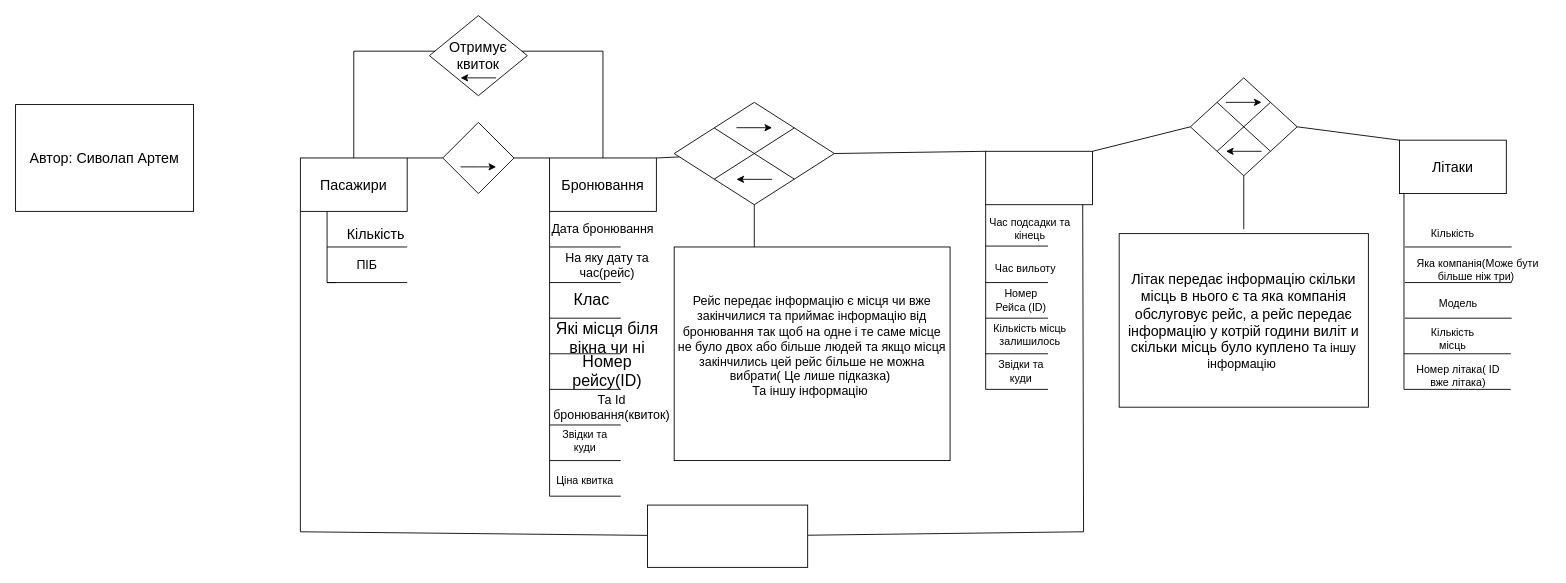
Image size: 1566x583. Some labels were removed from this diagram. The shapes that lost their labels are listed below. From the top down, each one's box as (x1, y1, x2, y2) in pixels, then its label:
(442, 121, 514, 194): Бронює
(985, 150, 1092, 205): Рейси
(647, 504, 808, 567): Перевірка на квиток(той квиток чи на другий рейс)
